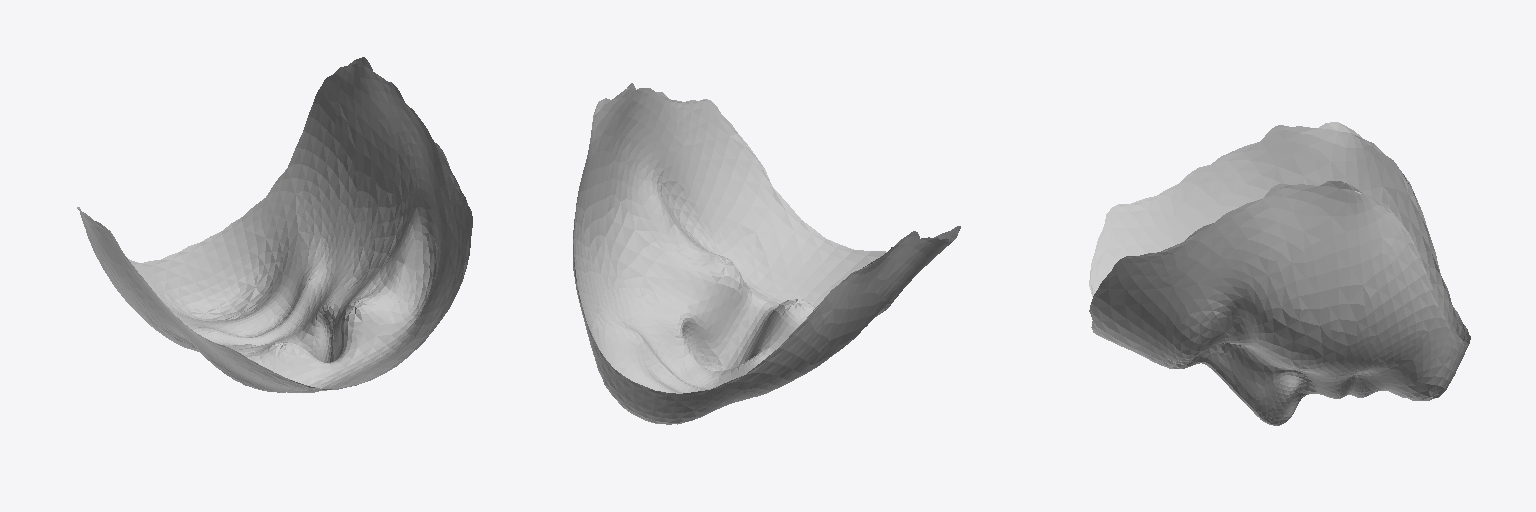
The model's file is face_gab_sfm0.obj.
The picture shows the model from 3 angles: view 1: azimuth 30°, elevation 25°; view 2: azimuth 150°, elevation 25°; view 3: azimuth 270°, elevation 25°; orthographic projection.
Bounding box in the file's own units: 161 × 149 × 180.